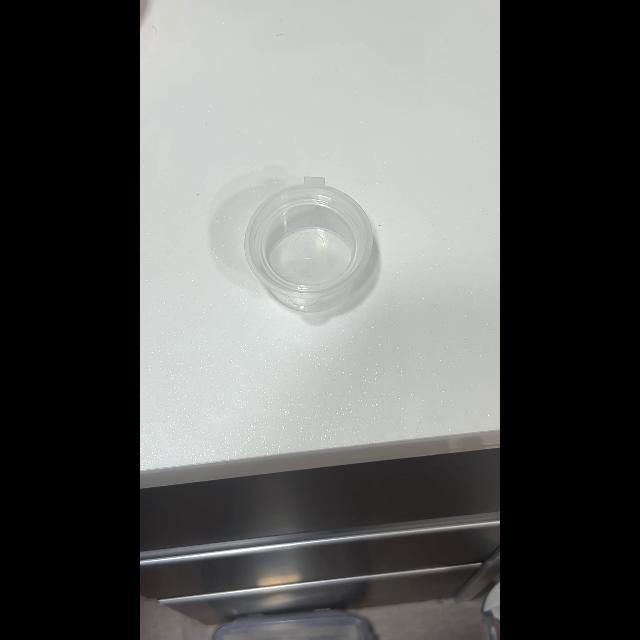clean: (243, 177, 375, 313)
